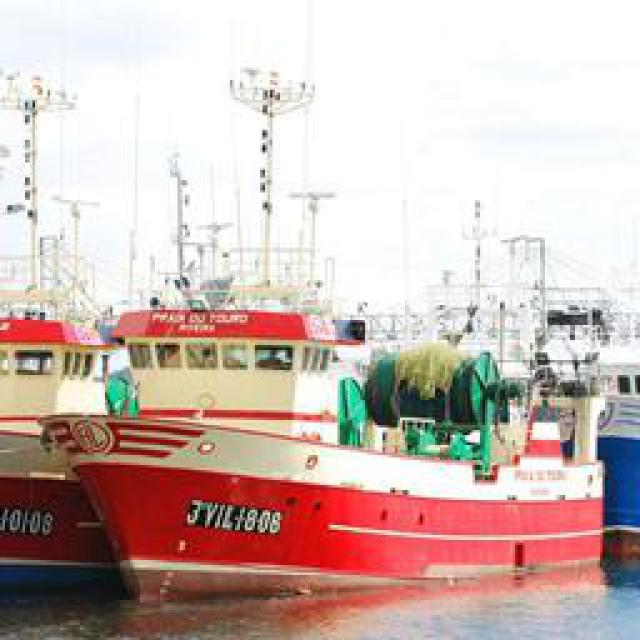Ship: (30, 286, 620, 599)
